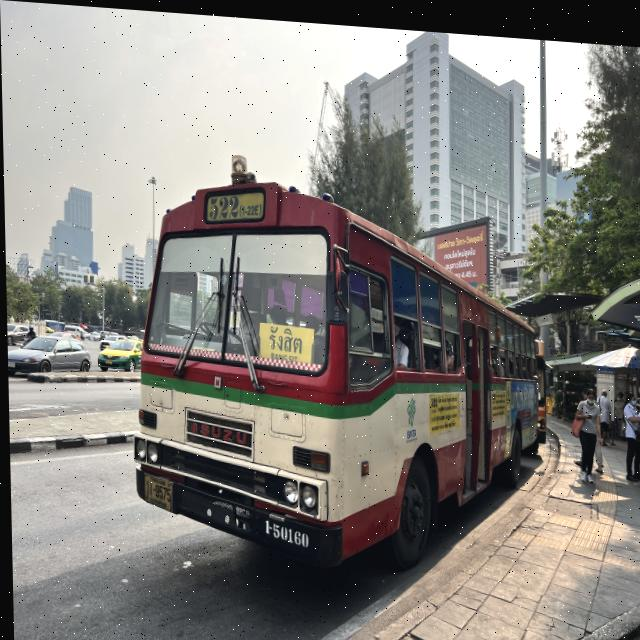BMTA-bus: (125, 169, 543, 581)
Bus-Line-Number: (204, 189, 263, 222)
Destination-Sign-Normal-Expressway: (257, 318, 313, 363)
